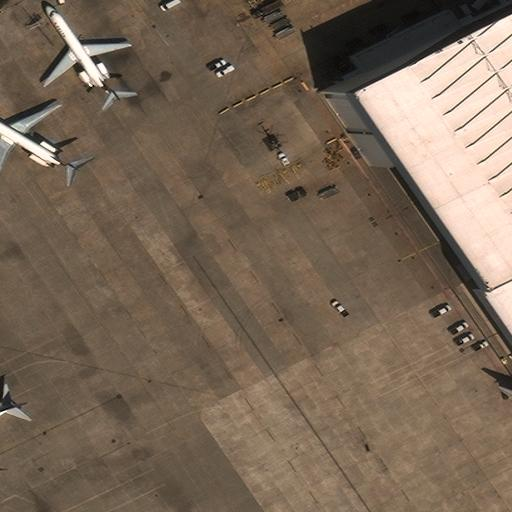Medium Civil Transport: (42, 5, 128, 100), (0, 97, 77, 176)
